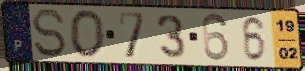3: (155, 14, 188, 60)
6: (201, 12, 232, 63), (240, 15, 268, 63)
7: (118, 11, 146, 61)
O: (67, 8, 107, 60)
S: (30, 7, 68, 59)
